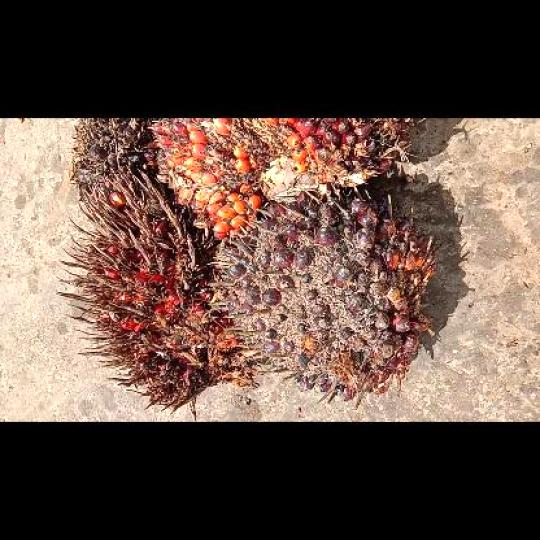kurang masak: (210, 184, 431, 402)
masak: (147, 118, 419, 240)
terlalu masak: (60, 182, 254, 421)
